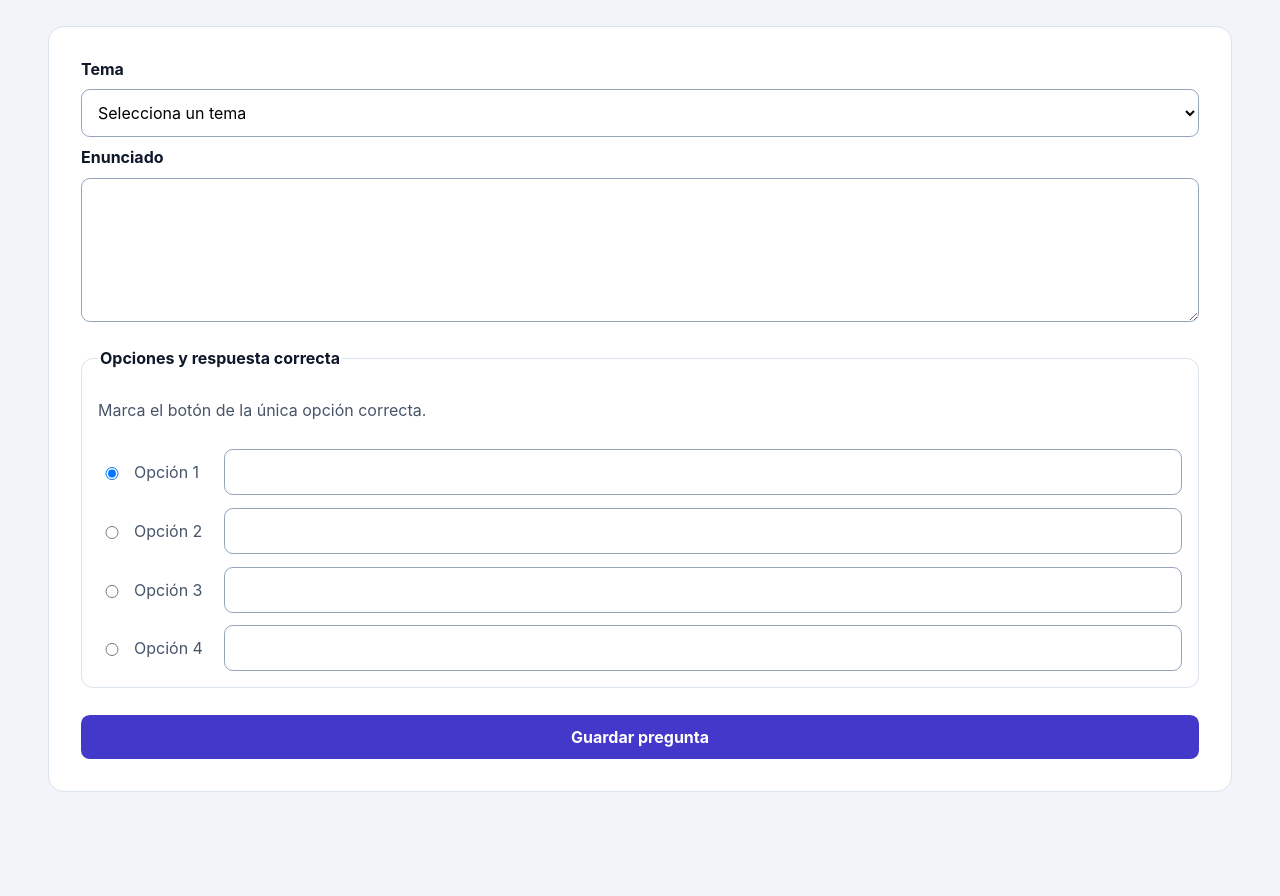
Test: QuestionFormPage › validates all required fields and keeps exactly one correct answer
(page scrolled)
Click the button "Guardar pregunta" at [640, 737], box x1=81 y1=715 x2=1199 y2=759
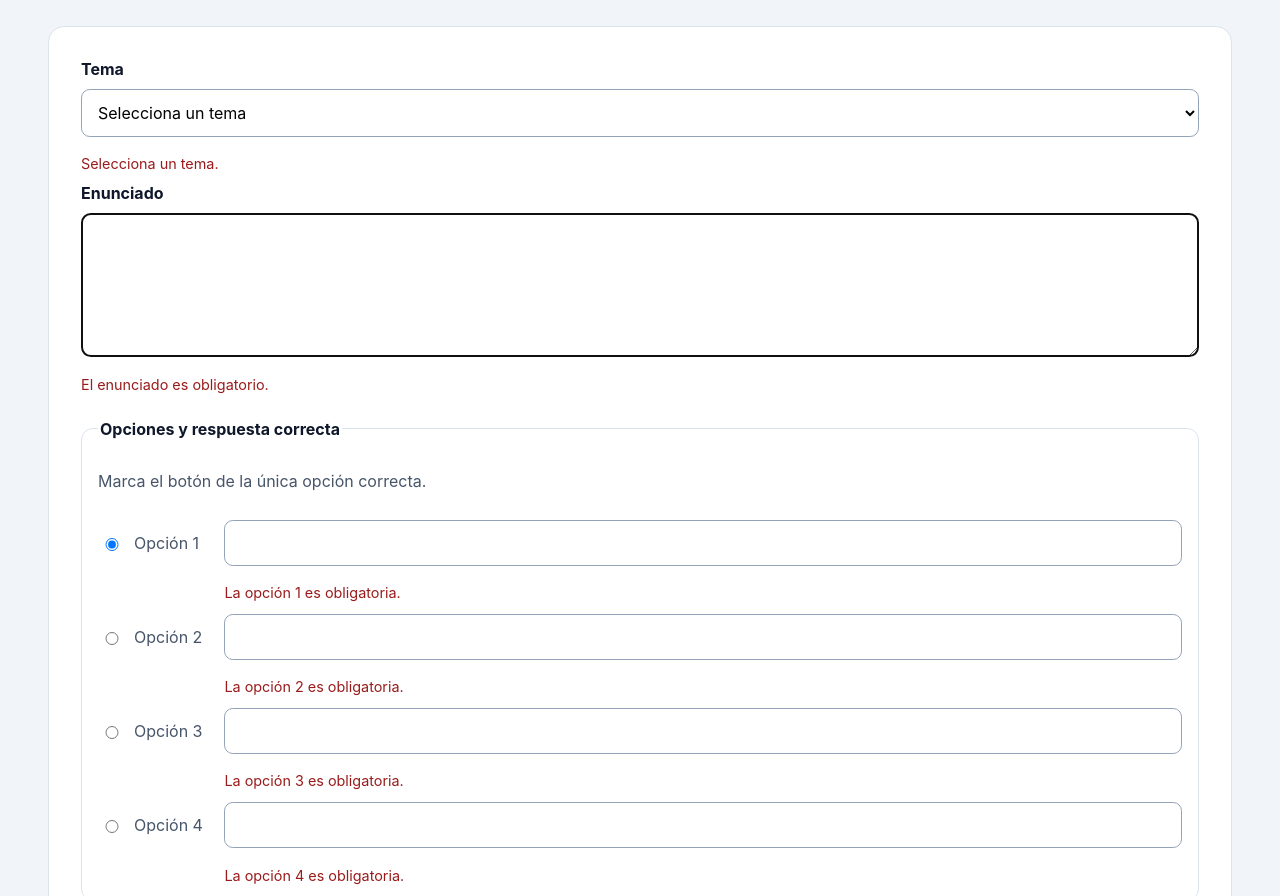
Expected: the text "Selecciona un tema." is shown, x1=81 y1=155 x2=218 y2=172
Expected: the text "El enunciado es obligatorio." is shown, x1=81 y1=376 x2=269 y2=392
Expected: the text "La opción 1 es obligatoria." is shown 4 times, x1=224 y1=584 x2=401 y2=601; x1=224 y1=678 x2=404 y2=695; x1=224 y1=772 x2=404 y2=790; x1=224 y1=867 x2=404 y2=884
Click the radio button named "Opción 3 correcta" at [112, 733], box x1=103 y1=726 x2=121 y2=739
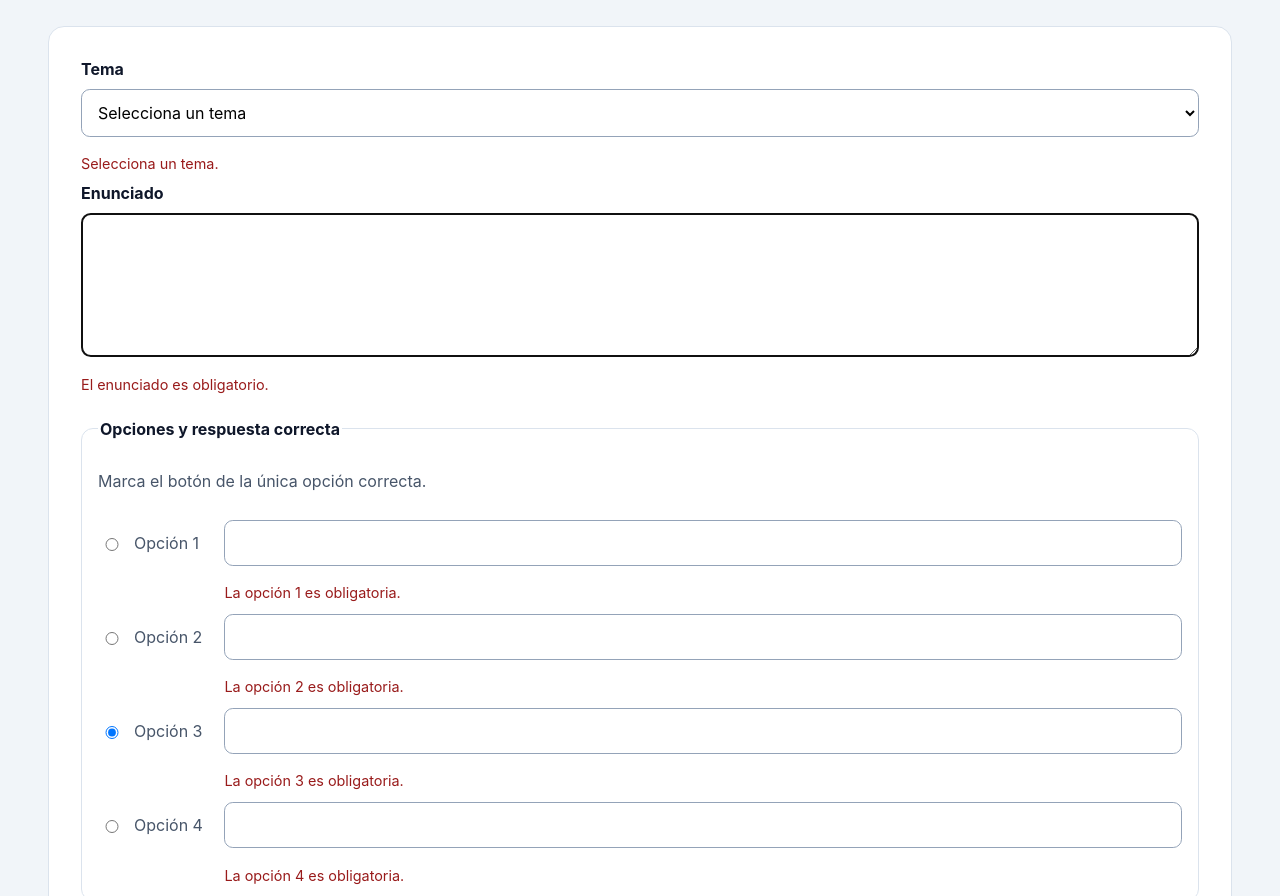
Expected: the radio button named "Opción 3 correcta" is checked, x1=103 y1=726 x2=121 y2=739
Expected: the radio button named "Opción 1 correcta" is not checked, x1=103 y1=538 x2=121 y2=551
